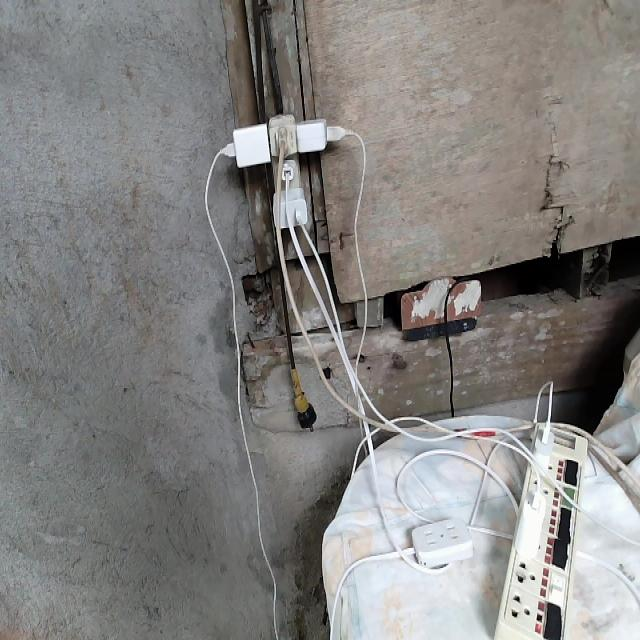-: (222, 109, 337, 228)
